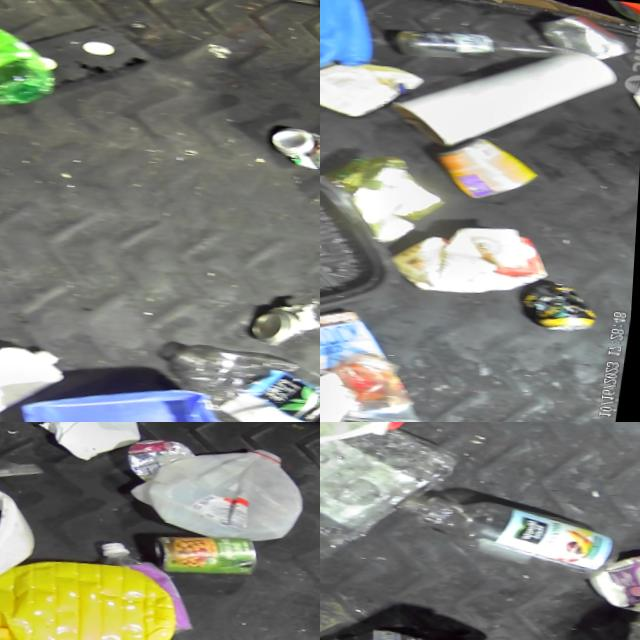can: (426, 126, 551, 200), (512, 262, 605, 332), (153, 526, 264, 576), (239, 282, 320, 346), (270, 117, 320, 166)
milk_jug: (133, 430, 318, 549), (0, 326, 74, 422)
non_white_jug: (0, 543, 186, 640)
plastic_bottle: (404, 489, 629, 579), (159, 335, 320, 422), (335, 616, 460, 640)
